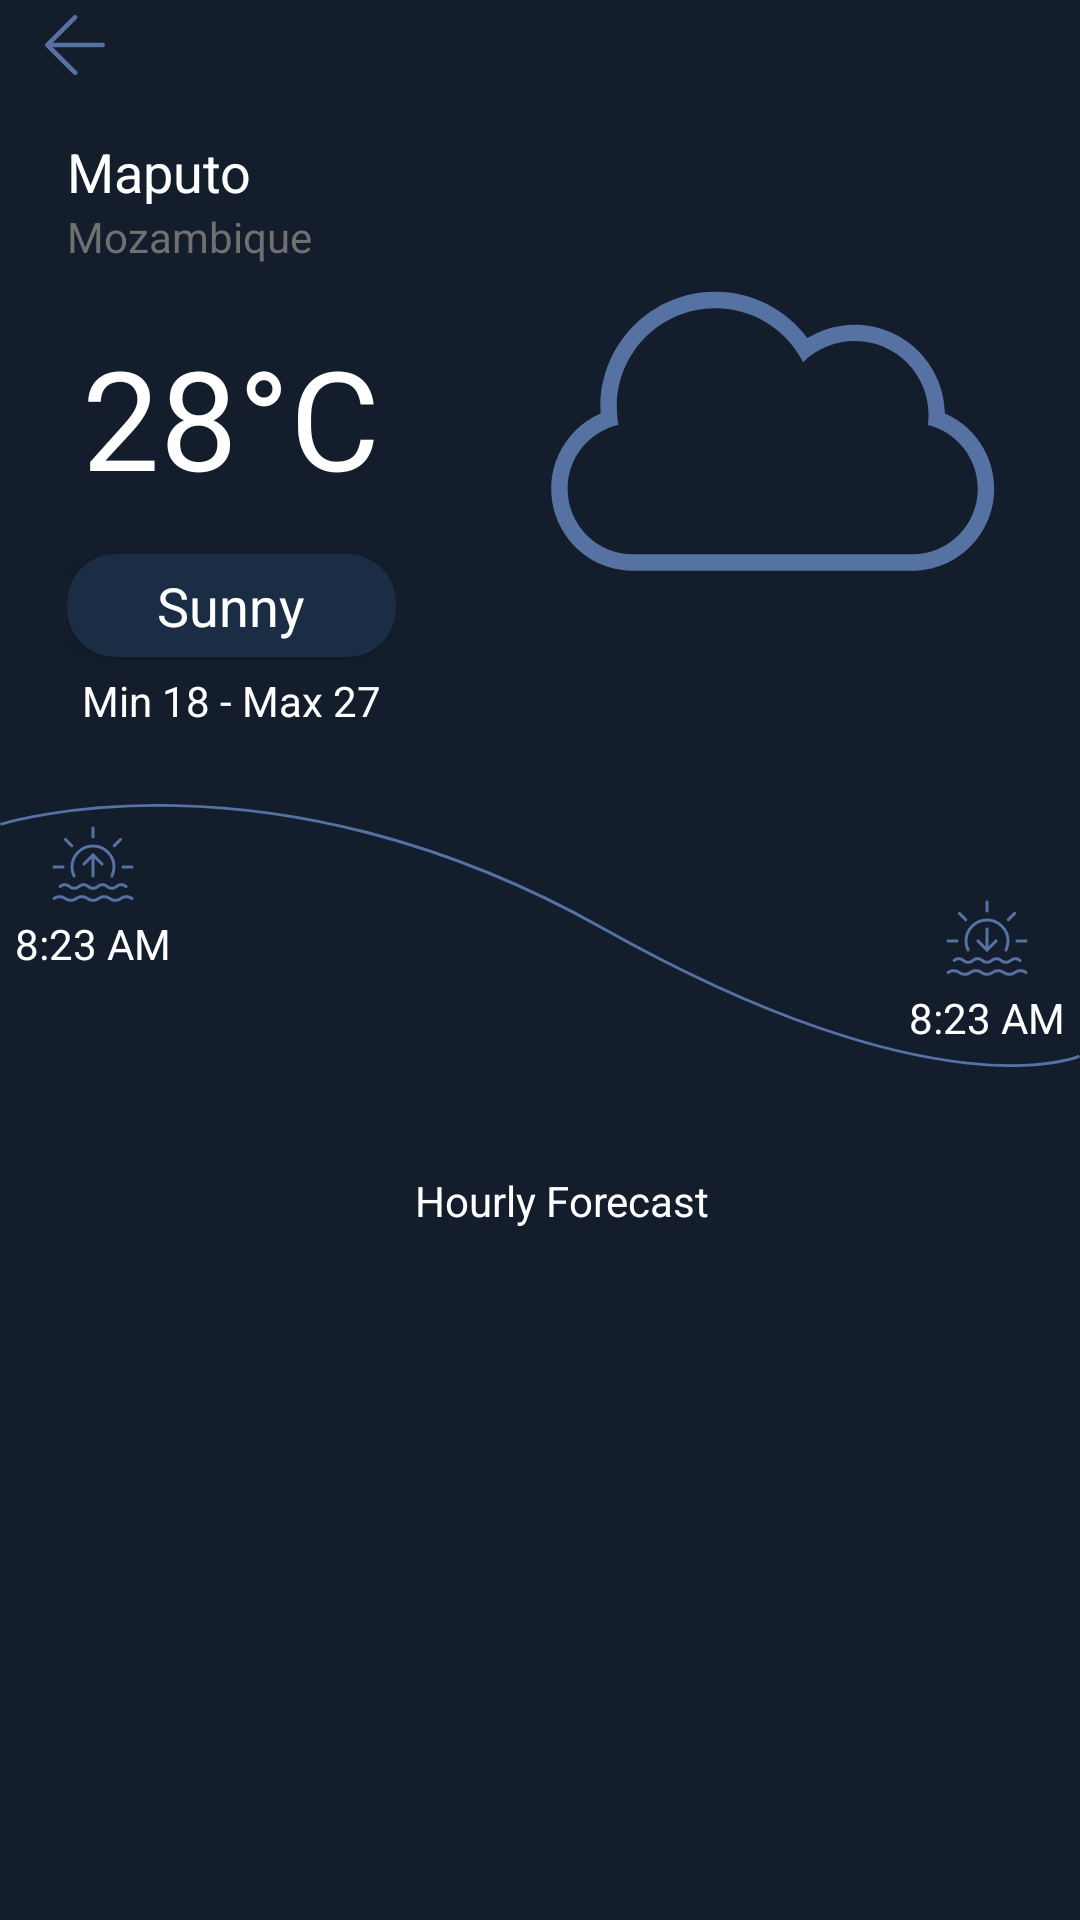

Screen size 1080px×1920px. Icon name, then its box in pixels as (x1, y1, x2, y2):
back arrow: (45, 15, 105, 75)
sunrise: (52, 826, 134, 902)
sunset: (946, 900, 1028, 976)
